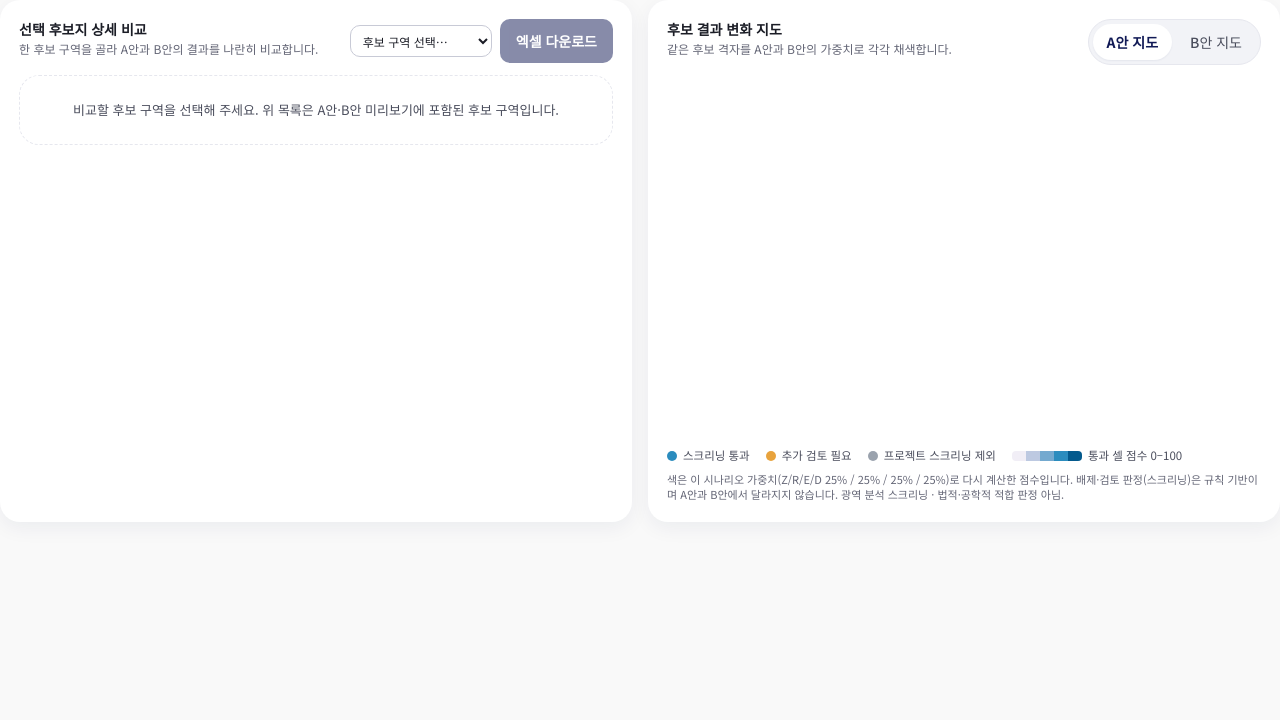
Test: contribution comparison › refuses the comparison when the two details name different cells
This screenshot has width=1280, height=720.
Select "시흥시 · CELL-0011" in the dropdown with test id "scenario-candidate-picker": (421, 41) [350,25,492,57]
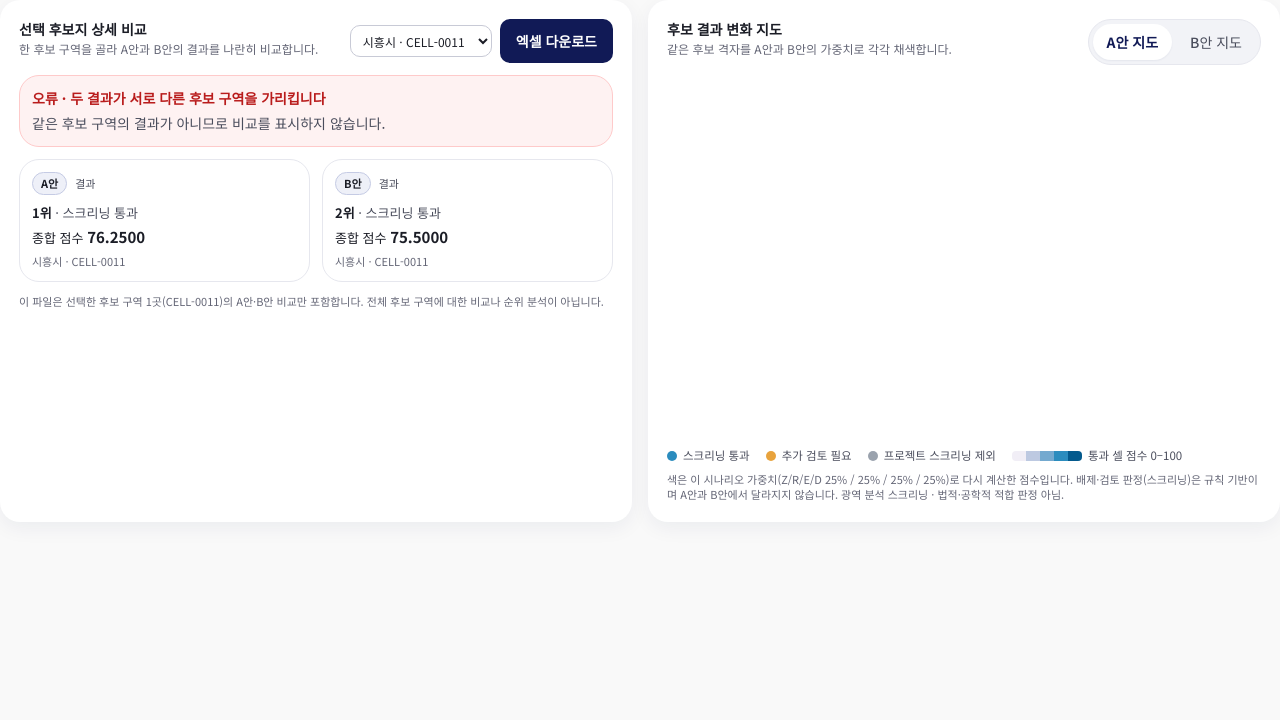
Result: the message "오류 · 두 결과가 서로 다른 후보 구역을 가리킵니다 같은 후보 구역의 결과가 아니므로 비교를 표시하지 않습니다." is shown at [19,75,613,147]
